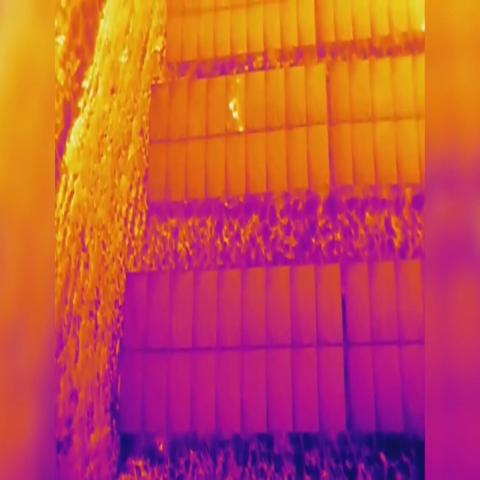fault: (227, 101, 236, 110), (233, 112, 240, 123), (239, 126, 244, 132)
